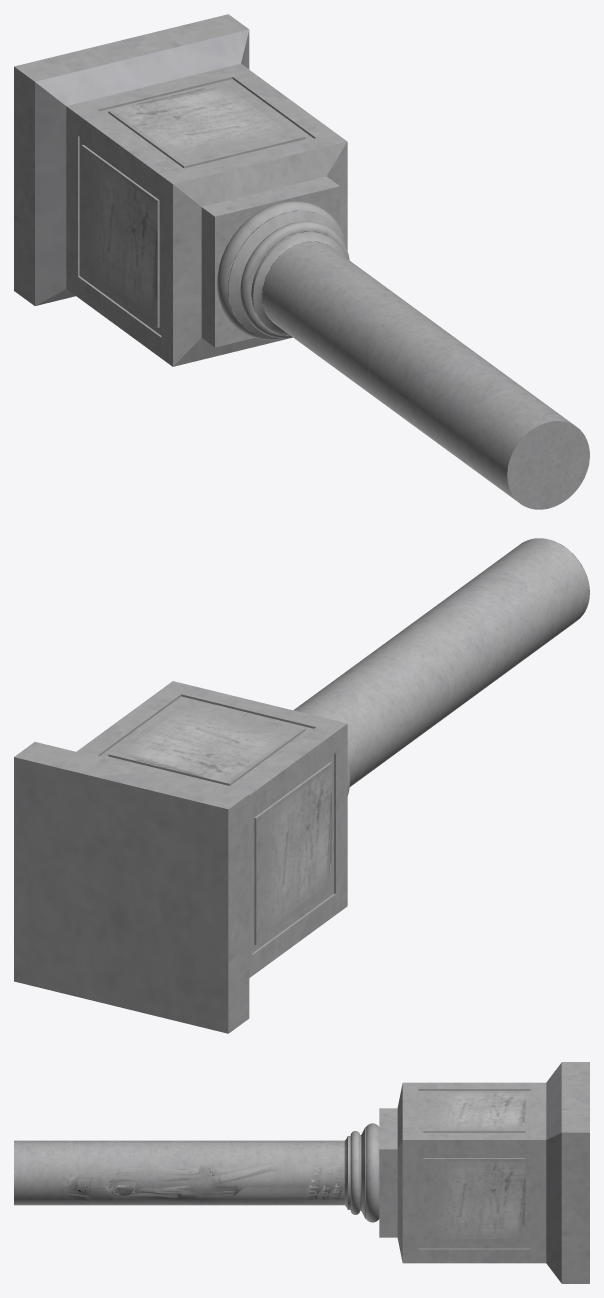
3 views of the same model, one above another, from view 1: azimuth 30°, elevation 25°; view 2: azimuth 150°, elevation 25°; view 3: azimuth 270°, elevation 25° (orthographic). The views are drawn at different scales.
Visible parts, largest first — view 1: PA-118-F_LOD0; view 2: PA-118-F_LOD0; view 3: PA-118-F_LOD0.
Boxes of the visible parts, x1,y1,x2,y2 form: PA-118-F_LOD0: (14,14,589,509); PA-118-F_LOD0: (14,538,589,1033); PA-118-F_LOD0: (14,1062,589,1283).
Size of what is drawn, in the model's own units: 82.06 by 82.04 by 283.
